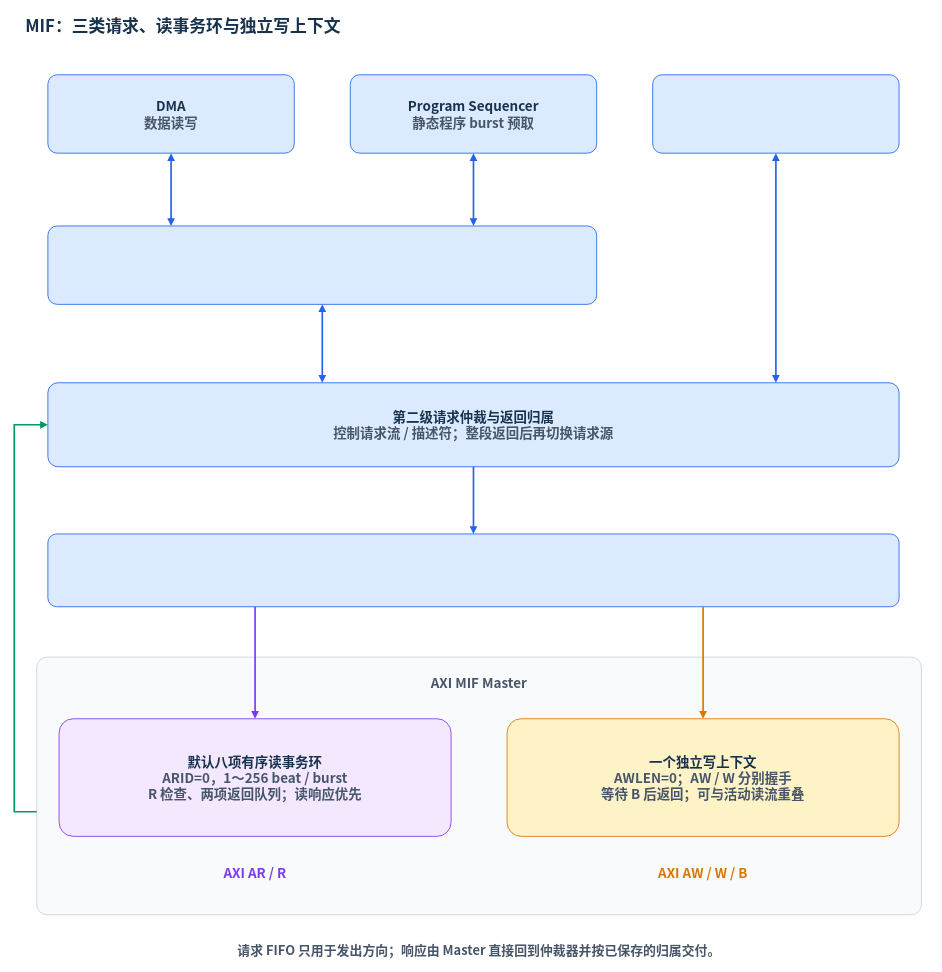
This 942x972 diagram has some shape labels left out. The shapes that lost their labels are listed below. From the top down, each one's box as (x1, y1, x2, y2) in pixels, then its label:
(652, 74, 899, 153): 描述符装载器 缓存未命中读取
(47, 225, 597, 305): 第一级窗口仲裁 DMA / 程序；等待程序时限制 DMA 读窗口
(47, 533, 899, 607): 两项请求 FIFO 129-bit 请求记录；隔离 ready 组合路径
